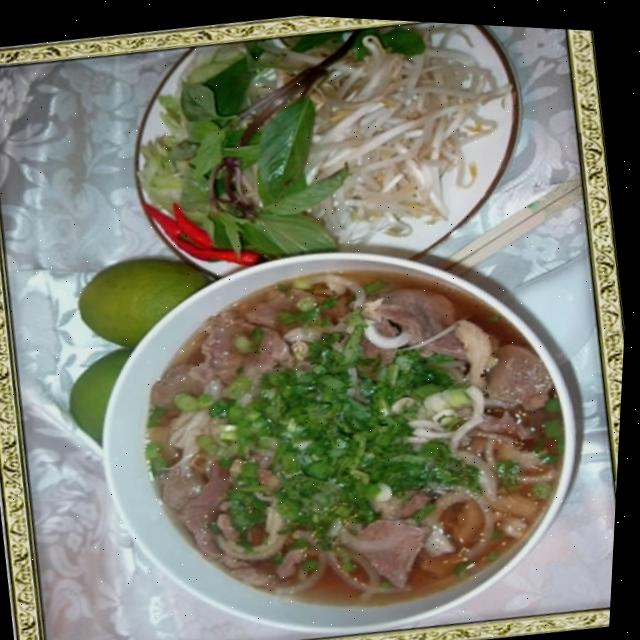面条主食: (68, 217, 614, 640)
